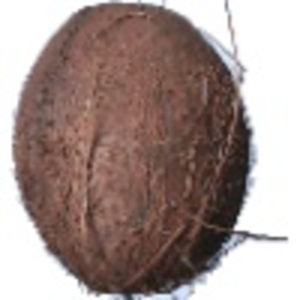coco: (11, 1, 287, 300)
